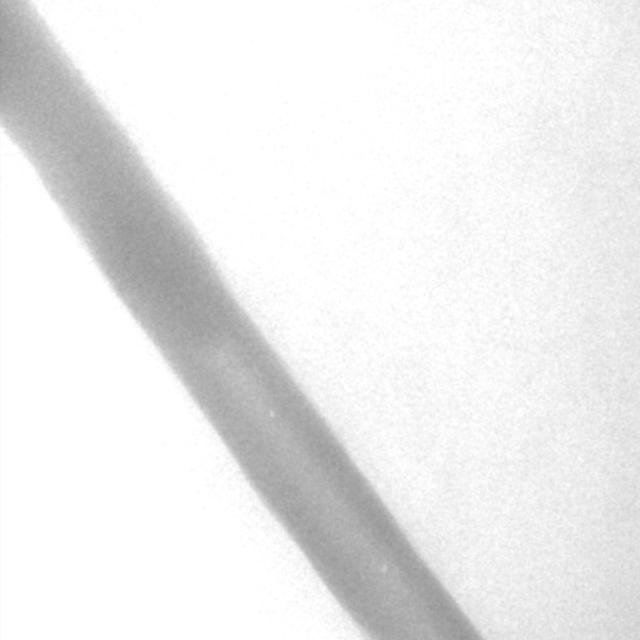air hole: (378, 562, 388, 576), (267, 408, 275, 420)
